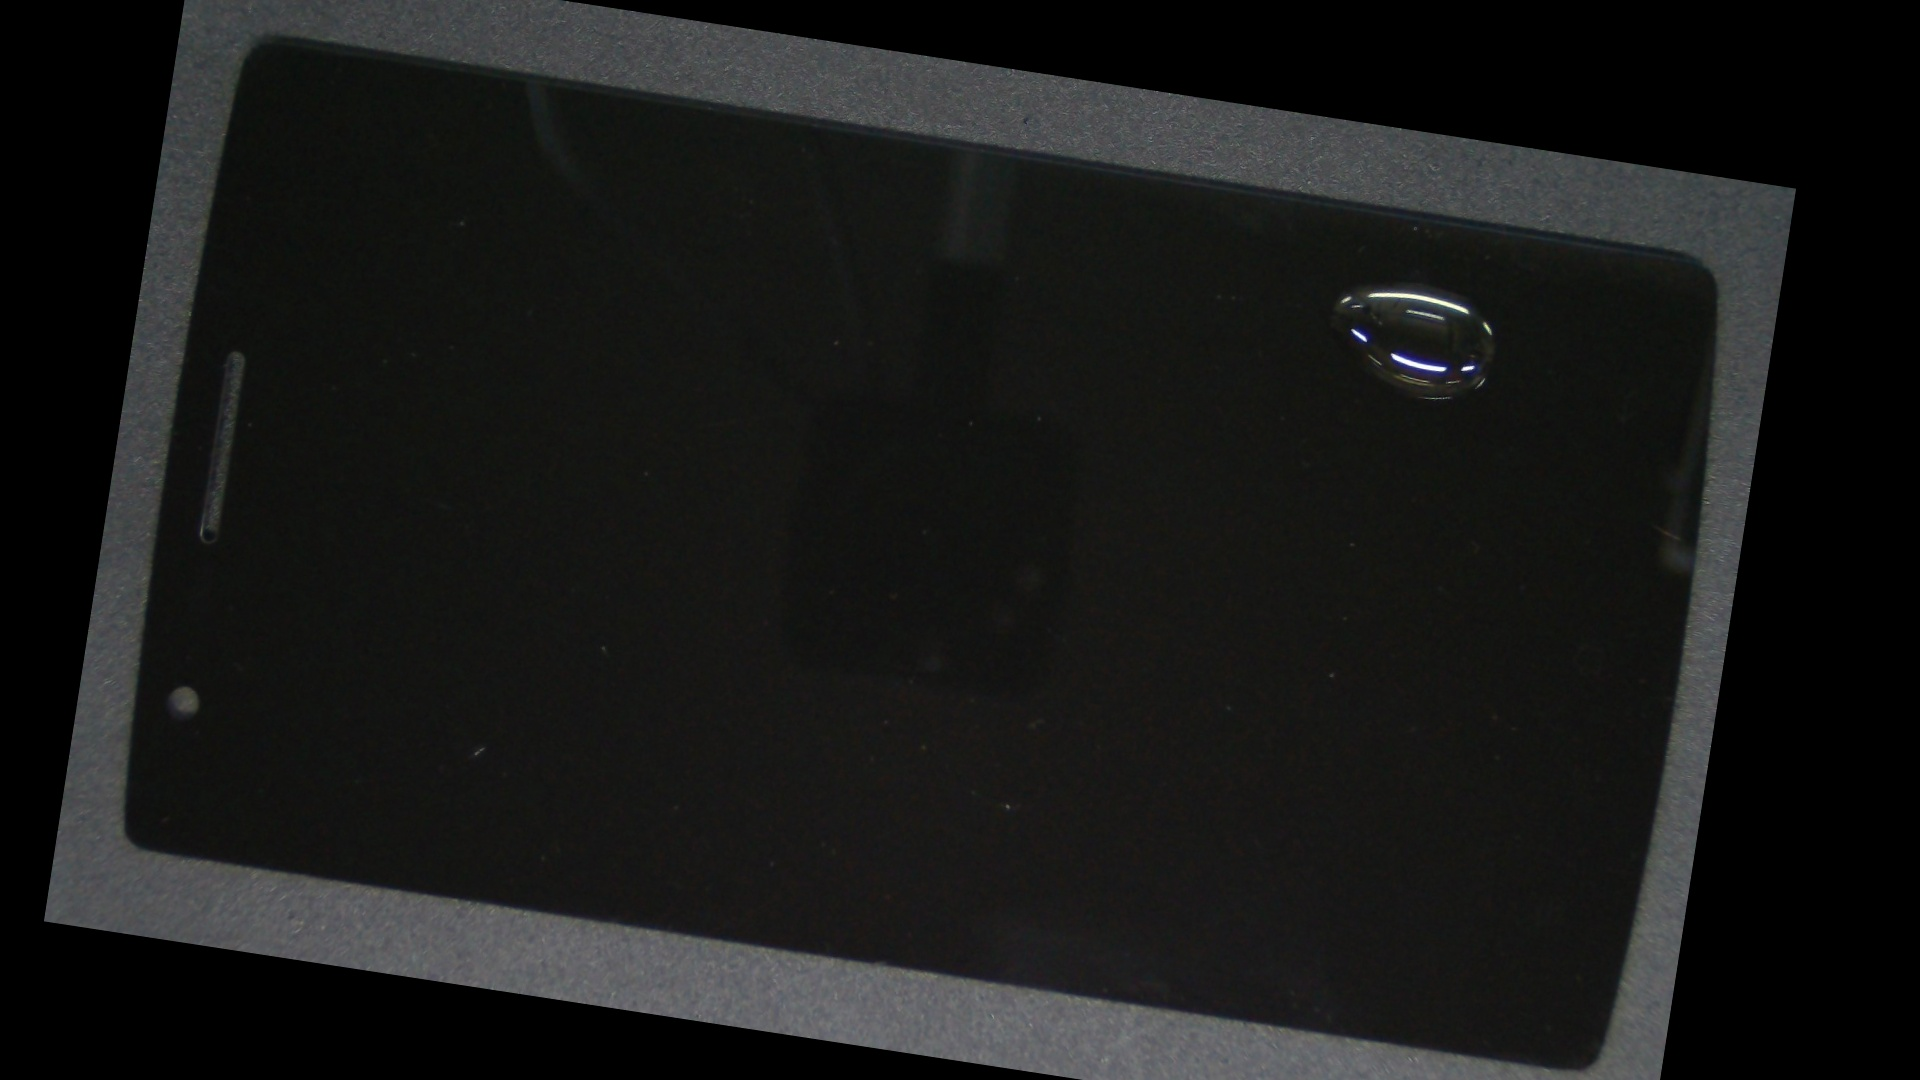oil: (779, 113, 1784, 413)
